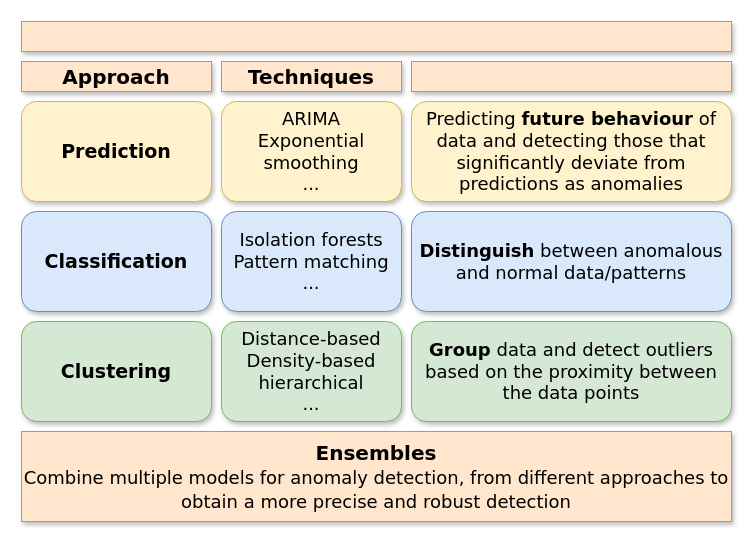
Image size: 755x546. Some labels were removed from this diagram. The centre of each missing label's shape, as x and y in pixels:
Objective: (x=572, y=77)
TIME SERIES ANOMALY DETECTION: (x=377, y=37)
